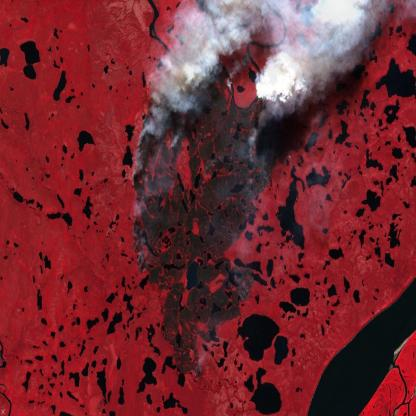fire: (127, 53, 291, 386)
